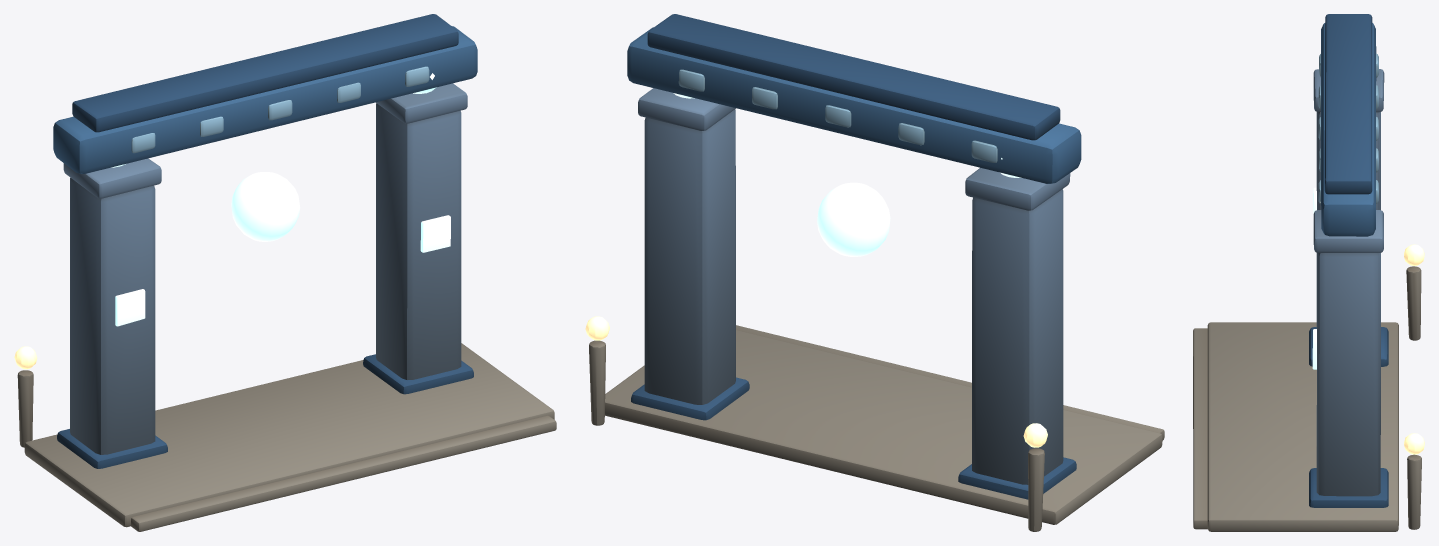
The picture shows the model from 3 angles, left to right: view 1: azimuth 30°, elevation 25°; view 2: azimuth 150°, elevation 25°; view 3: azimuth 270°, elevation 25°; orthographic projection. The views are drawn at different scales.
Visible parts, largest first — view 1: gate_af40c23c; view 2: gate_af40c23c; view 3: gate_af40c23c.
Boxes of the visible parts, x1,y1,x2,y2 form: gate_af40c23c: (14,14,556,531); gate_af40c23c: (585,14,1164,531); gate_af40c23c: (1193,14,1424,531).
Size of the model in its own units: 5.16 by 4.09 by 2.54.
